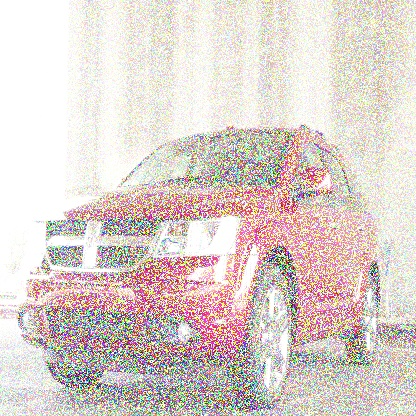Vehicle: (17, 124, 381, 412)
